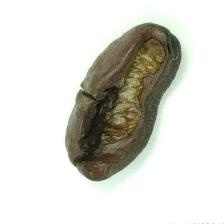NG: (65, 83, 154, 156), (120, 21, 182, 84)
